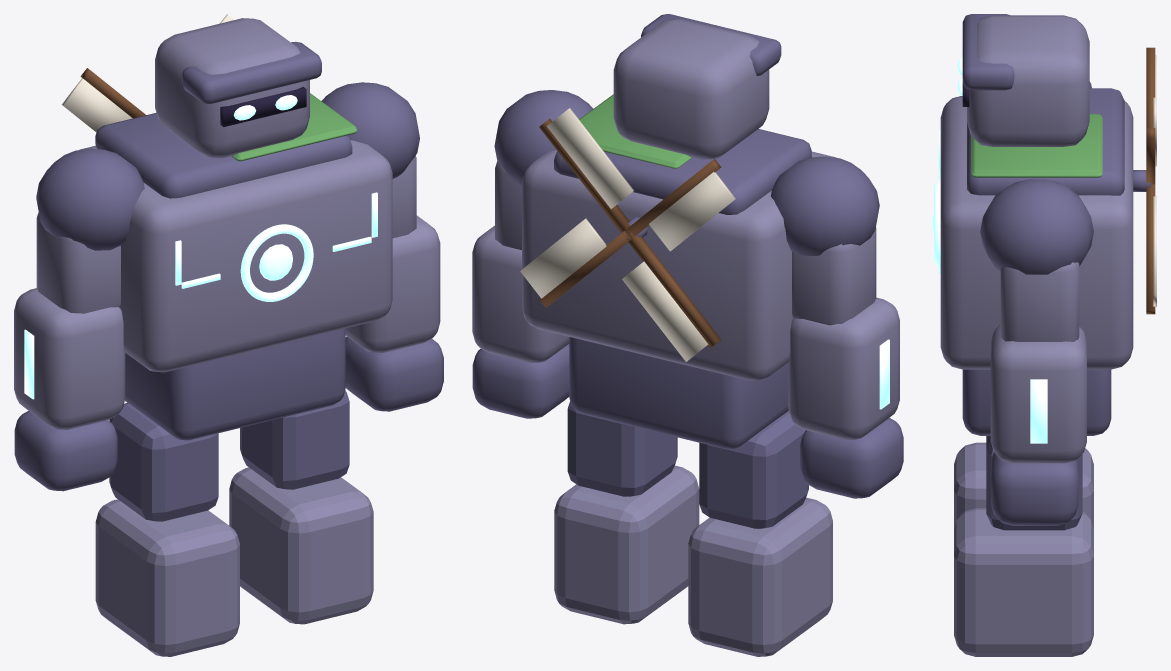
Rendered from golem.glb.
3 views of the same model, side by side, from view 1: azimuth 30°, elevation 25°; view 2: azimuth 150°, elevation 25°; view 3: azimuth 270°, elevation 25° (orthographic).
Visible parts, largest first — view 1: golem:body.mesh, golem:foreL.mesh, golem:shinL.mesh, golem:head.mesh, golem:shinR.mesh, golem:armL.mesh, golem:foreR.mesh, golem:legL.mesh, golem:legR.mesh, golem:armR.mesh; view 2: golem:body.mesh, golem:foreL.mesh, golem:head.mesh, golem:shinL.mesh, golem:shinR.mesh, golem:armL.mesh, golem:foreR.mesh, golem:legL.mesh, golem:legR.mesh, golem:armR.mesh; view 3: golem:body.mesh, golem:shinR.mesh, golem:foreR.mesh, golem:head.mesh, golem:armR.mesh, golem:shinL.mesh, golem:legR.mesh.
Boxes of the visible parts, x1,y1,x2,y2 form: golem:body.mesh: (61,14,392,440); golem:foreL.mesh: (14,288,125,491); golem:shinL.mesh: (95,499,239,656); golem:head.mesh: (155,18,321,158); golem:shinR.mesh: (229,467,373,624); golem:armL.mesh: (36,148,144,313); golem:foreR.mesh: (345,215,443,411); golem:legL.mesh: (109,403,218,521); golem:legR.mesh: (240,390,349,489); golem:armR.mesh: (321,82,419,238); golem:body.mesh: (520,94,836,449); golem:foreL.mesh: (788,297,903,498); golem:head.mesh: (613,14,781,159); golem:shinL.mesh: (688,497,832,656); golem:shinR.mesh: (554,465,699,624); golem:armL.mesh: (771,156,879,325); golem:foreR.mesh: (472,225,569,418); golem:legL.mesh: (699,410,808,528); golem:legR.mesh: (567,401,677,496); golem:armR.mesh: (494,90,593,250); golem:body.mesh: (932,47,1156,435); golem:shinR.mesh: (954,508,1093,656); golem:foreR.mesh: (990,324,1086,525); golem:head.mesh: (957,14,1089,146); golem:armR.mesh: (980,179,1093,341); golem:shinL.mesh: (954,442,1093,529); golem:legR.mesh: (986,436,1082,530).
Bounding box in the file's own units: 1.06 × 1.45 × 0.514.
